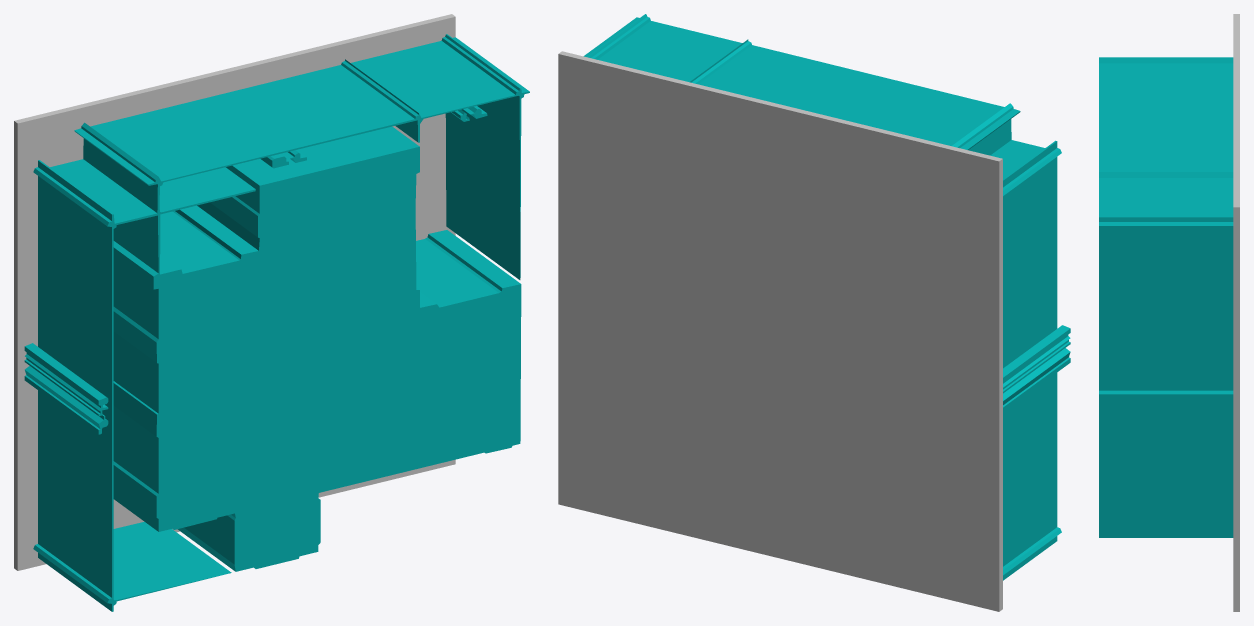
The picture shows the model from 3 angles, left to right: view 1: azimuth 30°, elevation 25°; view 2: azimuth 150°, elevation 25°; view 3: azimuth 270°, elevation 25°; orthographic projection. The views are drawn at different scales.
Visible parts, largest first — view 1: world; view 2: world; view 3: world.
Part boxes in pixels (box(x1,y1,x2,y2)): world: box(14, 14, 529, 611); world: box(558, 14, 1070, 611); world: box(1099, 14, 1239, 611).
Size of the model in its own units: 10.23 by 9.99 by 3.15.
